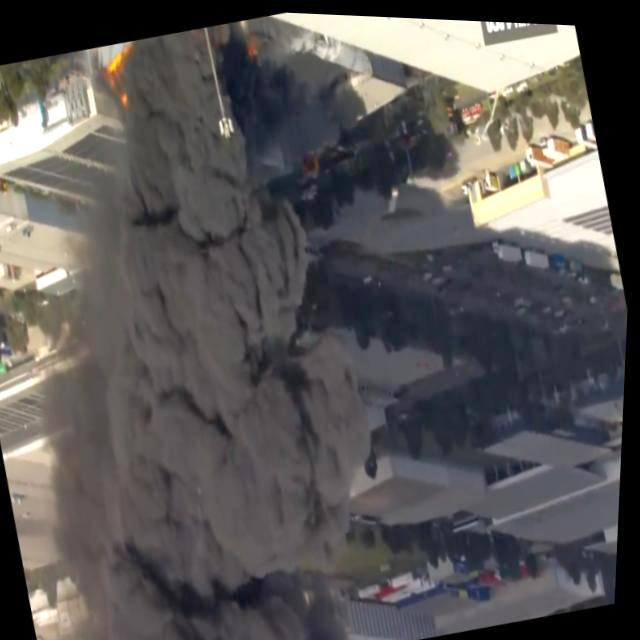fire: (96, 43, 144, 113)
